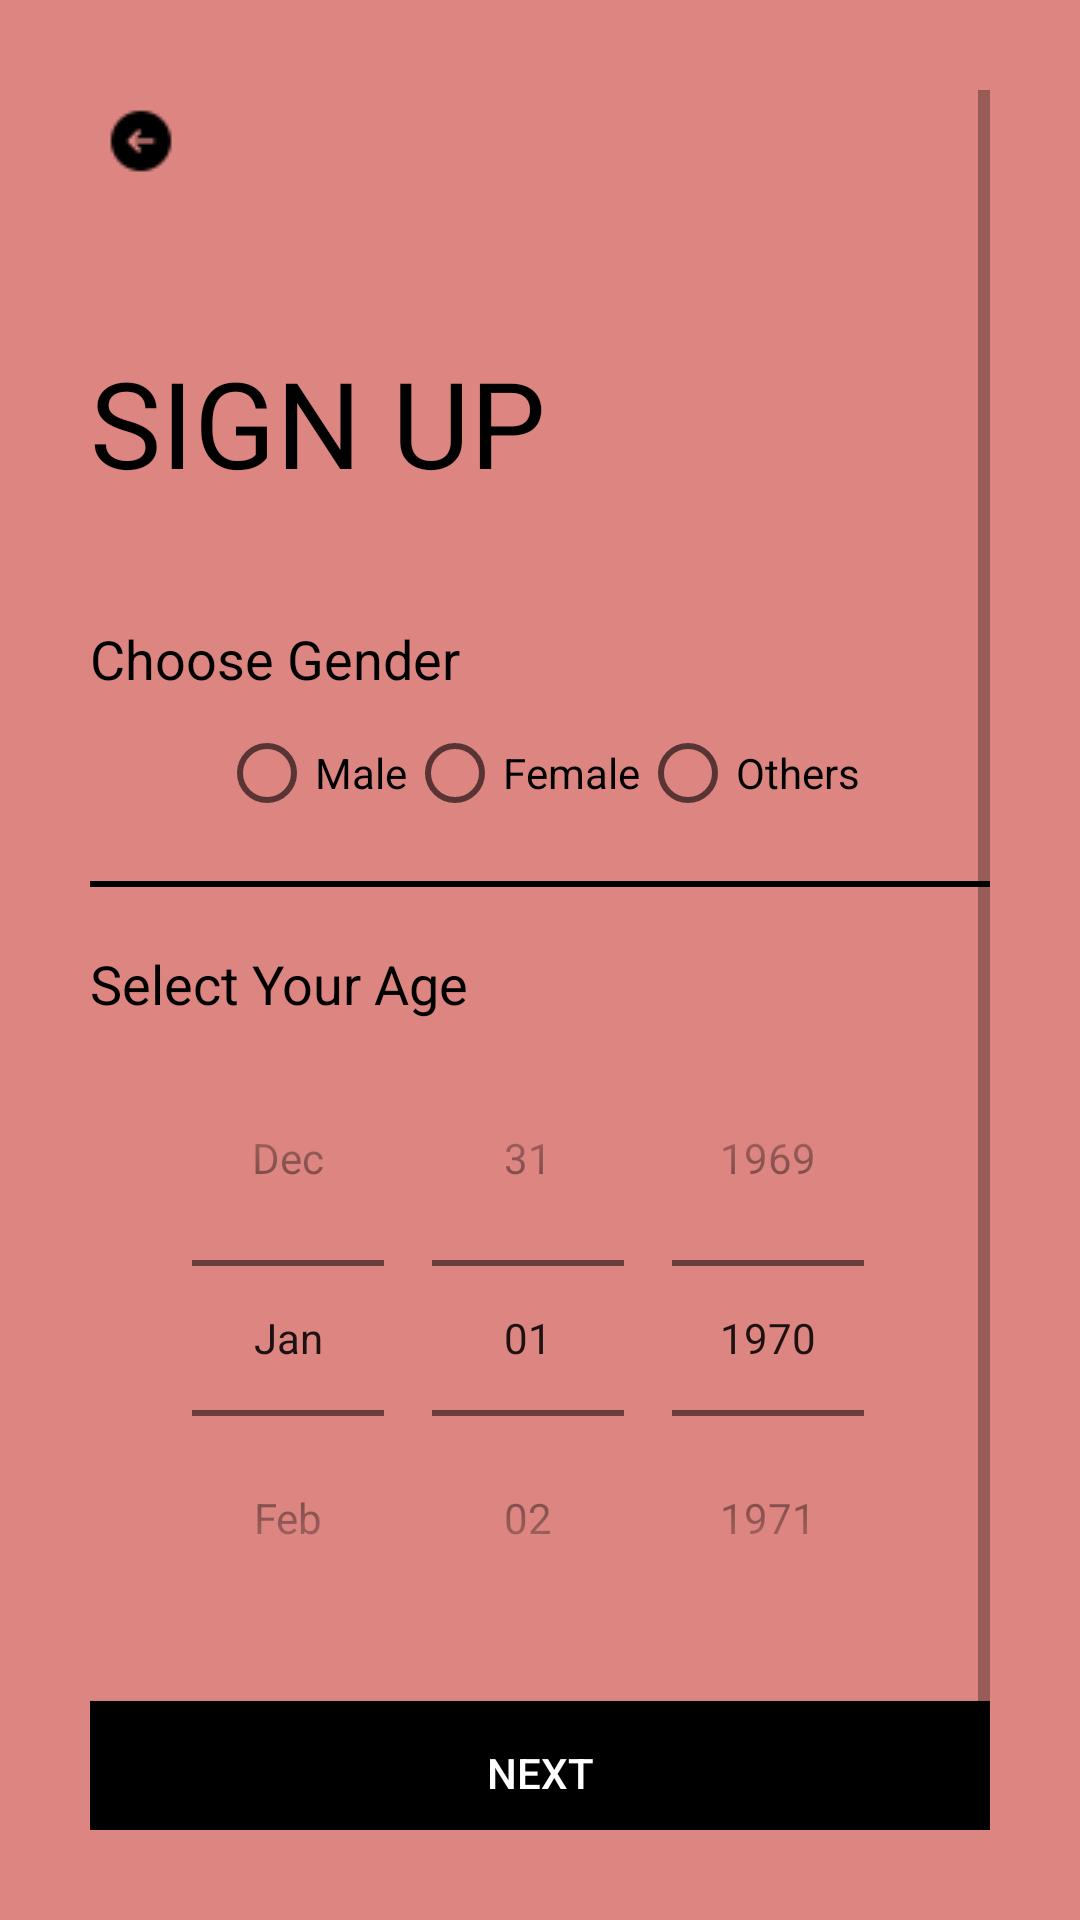

Point at icon controls on the screen. Image size 1080×1920, points as point (x, y).
back arraow: point (141, 141)
